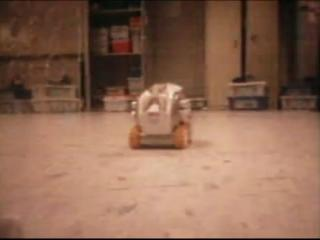cozmo: (127, 82, 193, 150)
